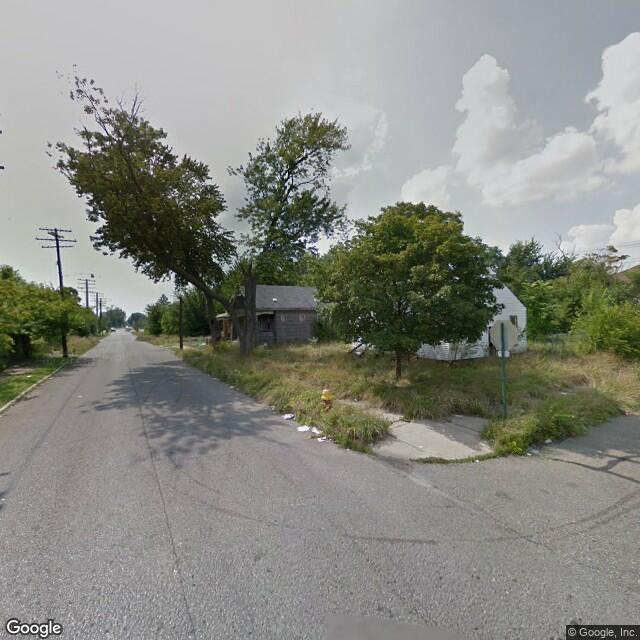litter: (296, 424, 309, 433), (280, 412, 294, 420), (313, 425, 319, 436), (524, 450, 532, 458), (229, 384, 237, 392), (545, 435, 552, 444), (317, 437, 327, 442), (270, 405, 276, 412), (474, 458, 479, 462)
